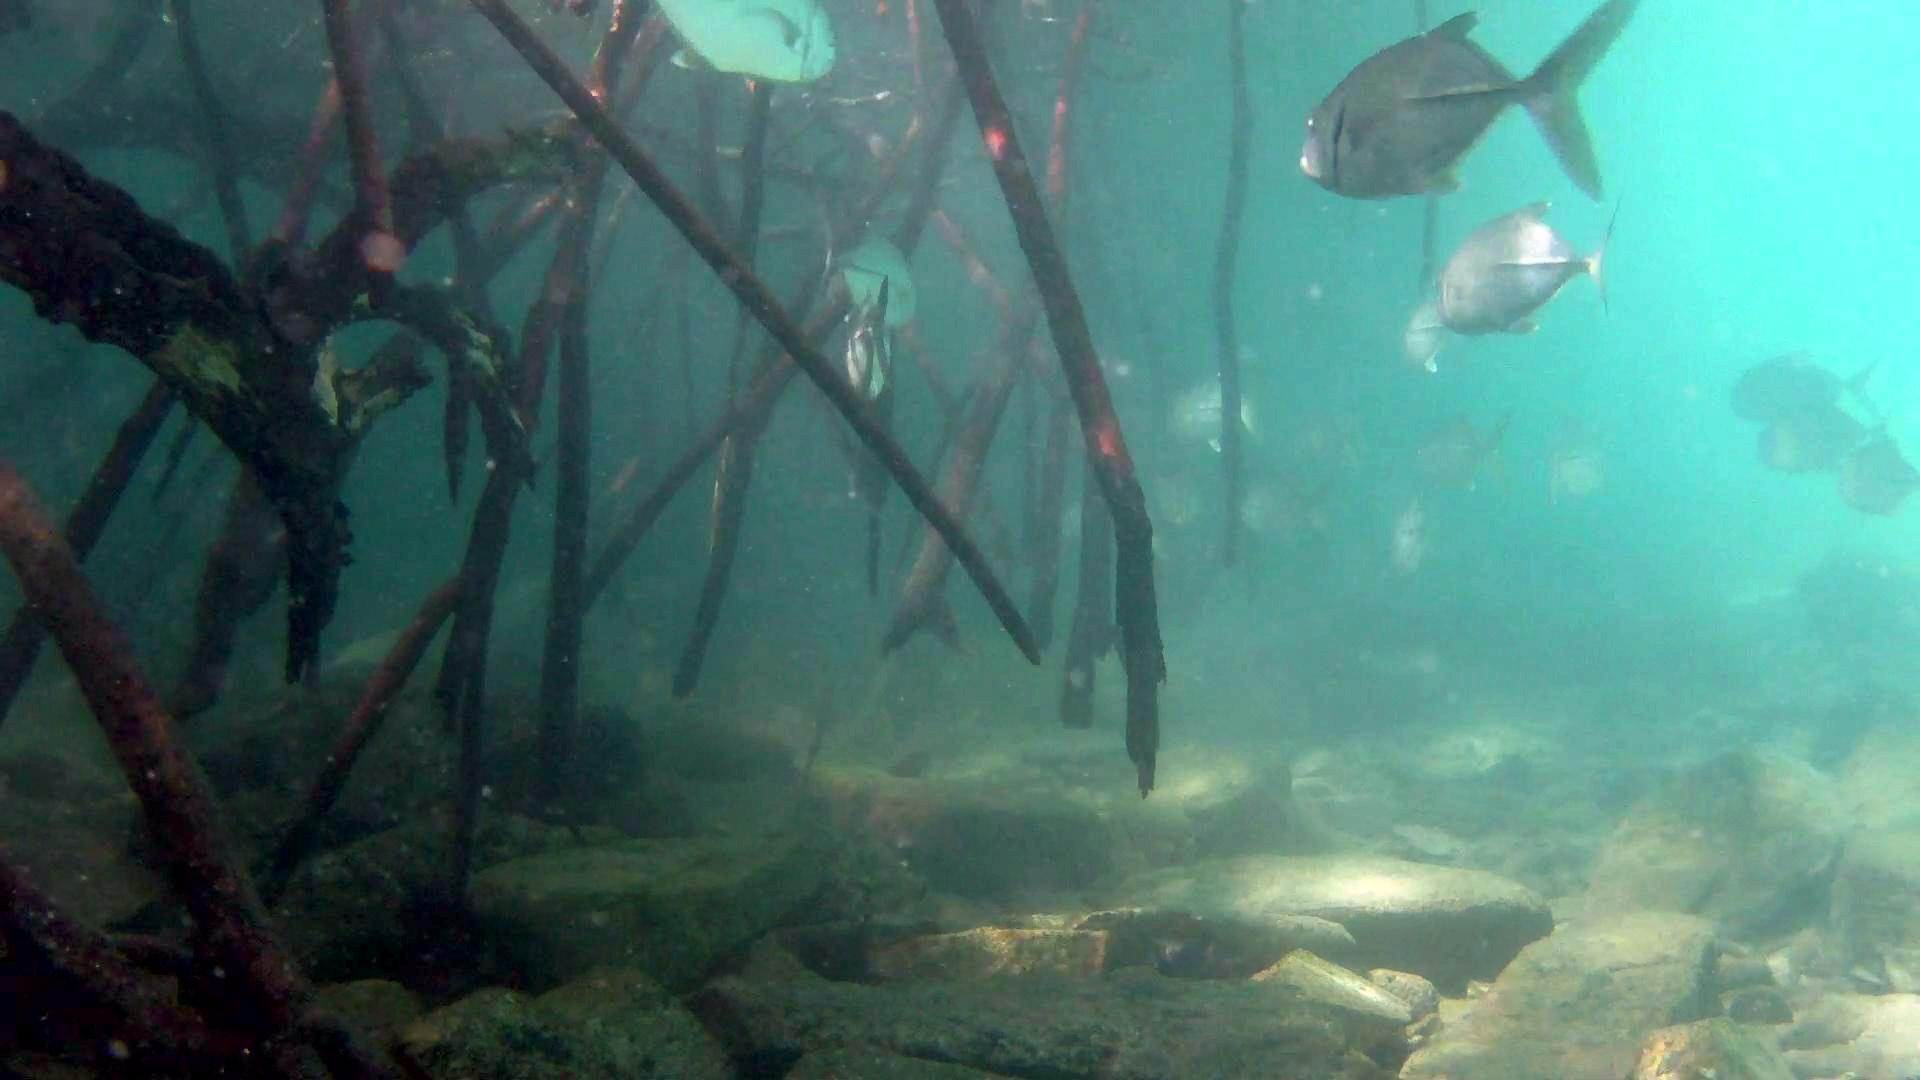caranx: (1288, 0, 1631, 209), (1428, 198, 1637, 344), (645, 0, 843, 92)
